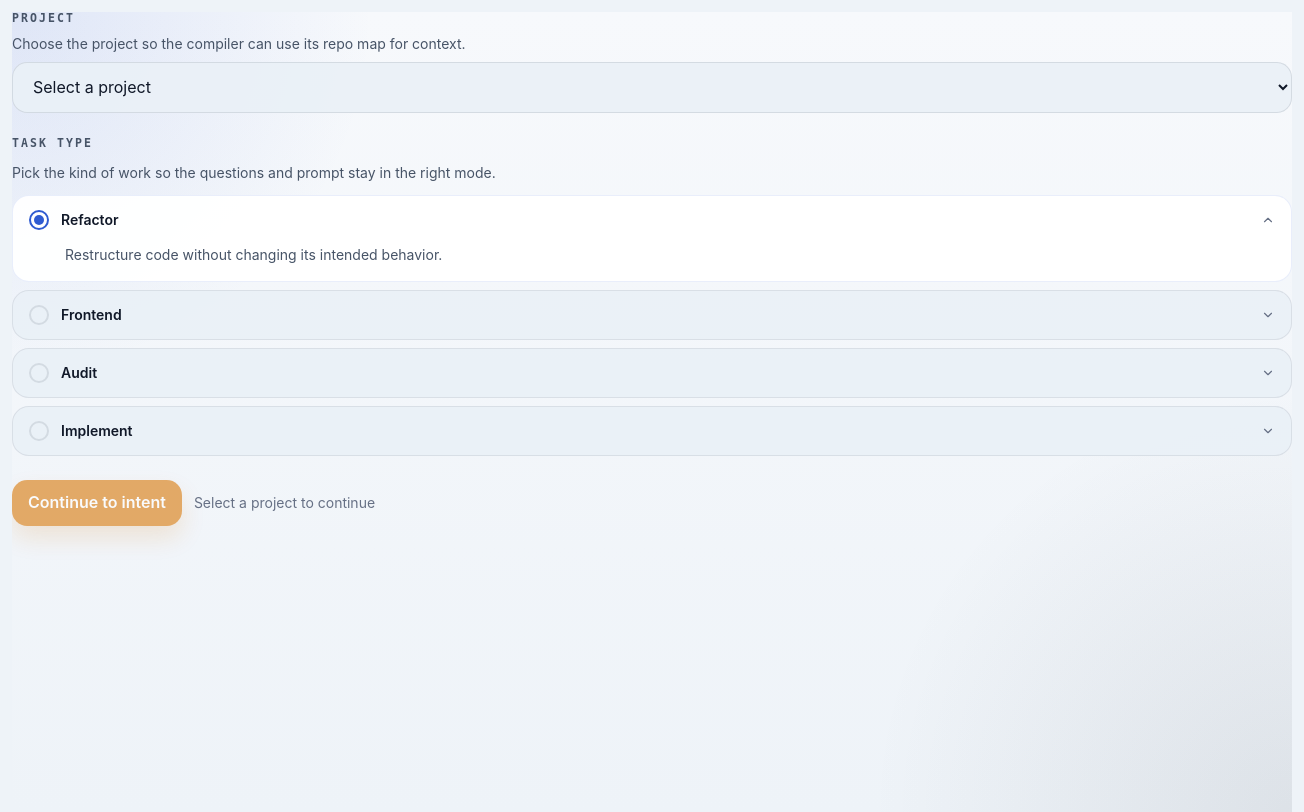
Test: ContextStage › shows task type description in accordion when expanded
This screenshot has width=1304, height=812.
Expected: the text "Restructure code without changing its intended behavior." is shown, [65,246,442,263]
Click Frontend to expand it
Click the button "Frontend" at (91, 314), box [13,291,1291,339]
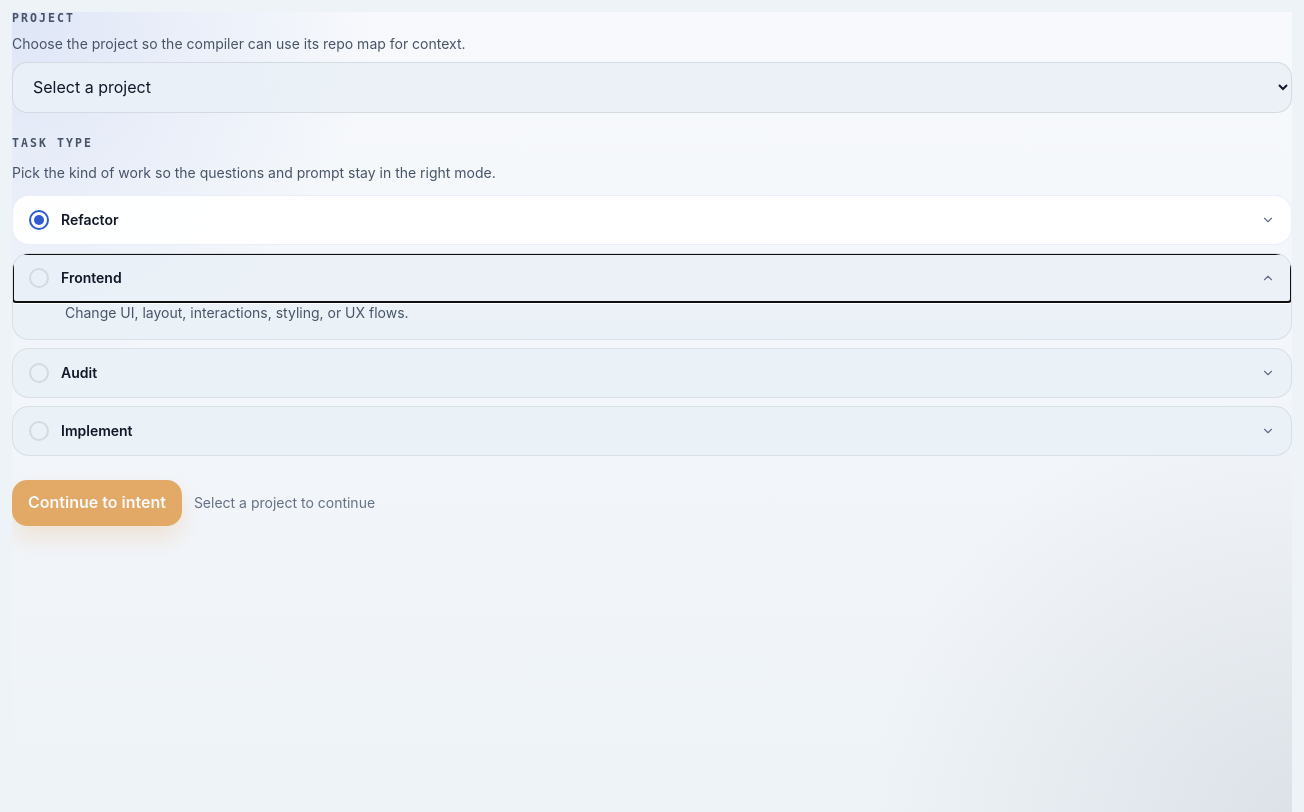
Result: the text "Change UI, layout, interactions, styling, or UX flows." is shown at [65,304,409,321]
